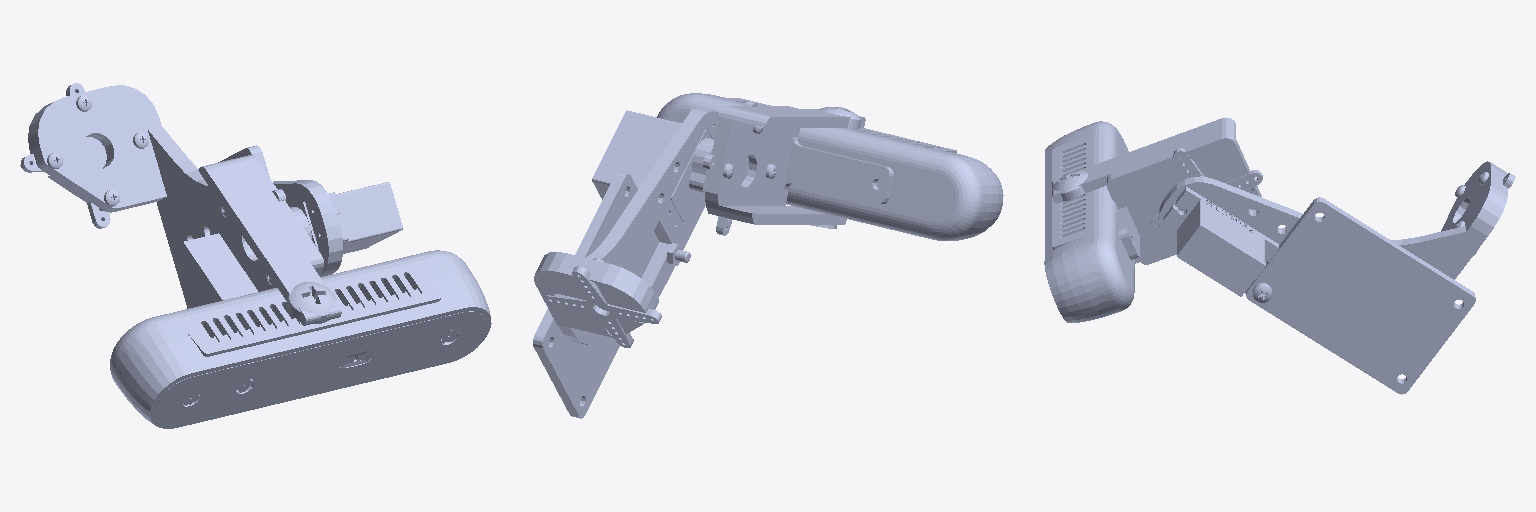
robot.urdf — Active Vision Platform:
<?xml version="1.0" encoding="utf-8"?>
<!-- This URDF was automatically created by SolidWorks to URDF Exporter! Originally created by Stephen Brawner (brawner@gmail.com) 
     Commit Version: 1.6.0-4-g7f85cfe  Build Version: 1.6.7995.38578
     For more information, please see http://wiki.ros.org/sw_urdf_exporter -->
<robot
  name="Active Vision Platform">
  <link
    name="base_link">
    <inertial>
      <origin
        xyz="0.317477964520347 -0.330969894003123 0.175977174132142"
        rpy="0 0 0" />
      <mass
        value="0.175" />
      <inertia
        ixx="0.000583456354562162"
        ixy="-7.14891953851568E-06"
        ixz="4.53483359986207E-05"
        iyy="0.000640864540576776"
        iyz="6.40389410938351E-05"
        izz="0.000161784736864578" />
    </inertial>
    <visual>
      <origin
        xyz="0 0 0"
        rpy="0 0 0" />
      <geometry>
        <mesh
          filename="package://Active Vision Platform/meshes/base_link.STL" />
      </geometry>
      <material
        name="">
        <color
          rgba="0.792156862745098 0.819607843137255 0.933333333333333 1" />
      </material>
    </visual>
    <collision>
      <origin
        xyz="0 0 0"
        rpy="0 0 0" />
      <geometry>
        <mesh
          filename="package://Active Vision Platform/meshes/base_link.STL" />
      </geometry>
    </collision>
  </link>
  <link
    name="Empty_Link1">
    <inertial>
      <origin
        xyz="0.317477964520347 -0.330969894003123 0.175977174132142"
        rpy="0 0 0" />
      <mass
        value="0.175" />
      <inertia
        ixx="0.000583456354562162"
        ixy="-7.14891953851568E-06"
        ixz="4.53483359986207E-05"
        iyy="0.000640864540576776"
        iyz="6.40389410938351E-05"
        izz="0.000161784736864578" />
    </inertial>
    <visual>
      <origin
        xyz="0 0 0"
        rpy="0 0 0" />
      <geometry>
        <mesh
          filename="package://Active Vision Platform/meshes/Empty_Link1.STL" />
      </geometry>
      <material
        name="">
        <color
          rgba="0.792156862745098 0.819607843137255 0.933333333333333 1" />
      </material>
    </visual>
    <collision>
      <origin
        xyz="0 0 0"
        rpy="0 0 0" />
      <geometry>
        <mesh
          filename="package://Active Vision Platform/meshes/Empty_Link1.STL" />
      </geometry>
    </collision>
  </link>
  <joint
    name="joint1"
    type="continuous">
    <origin
      xyz="0.31194 -0.10063 -0.3345"
      rpy="3.1351 0.967 -1.5786" />
    <parent
      link="base_link" />
    <child
      link="Empty_Link1" />
    <axis
      xyz="0 0 -1" />
  </joint>
  <link
    name="Empty_Link2">
    <inertial>
      <origin
        xyz="0.317477964520347 -0.330969894003123 0.175977174132142"
        rpy="0 0 0" />
      <mass
        value="0.175" />
      <inertia
        ixx="0.000583456354562162"
        ixy="-7.14891953851568E-06"
        ixz="4.53483359986207E-05"
        iyy="0.000640864540576776"
        iyz="6.40389410938351E-05"
        izz="0.000161784736864578" />
    </inertial>
    <visual>
      <origin
        xyz="0 0 0"
        rpy="0 0 0" />
      <geometry>
        <mesh
          filename="package://Active Vision Platform/meshes/Empty_Link2.STL" />
      </geometry>
      <material
        name="">
        <color
          rgba="0.792156862745098 0.819607843137255 0.933333333333333 1" />
      </material>
    </visual>
    <collision>
      <origin
        xyz="0 0 0"
        rpy="0 0 0" />
      <geometry>
        <mesh
          filename="package://Active Vision Platform/meshes/Empty_Link2.STL" />
      </geometry>
    </collision>
  </link>
  <joint
    name="joint2"
    type="continuous">
    <origin
      xyz="0.030254 -0.0087565 -0.070686"
      rpy="-1.5747 -0.5805 -3.1416" />
    <parent
      link="Empty_Link1" />
    <child
      link="Empty_Link2" />
    <axis
      xyz="0 0 -1" />
  </joint>
</robot>

--- Render facts (derived) ---
Views: 3 orthographic renders of the robot side by side, from view 1: azimuth 30°, elevation 25°; view 2: azimuth 150°, elevation 25°; view 3: azimuth 270°, elevation 25°.
Robot: Active Vision Platform — 3 links, 2 joints (2 continuous); root link base_link; default pose: every joint at zero.
Links seen in each view (by area): view 1: Empty_Link2, Empty_Link1; view 2: Empty_Link2, Empty_Link1; view 3: Empty_Link1, Empty_Link2.
Boxes of the visible links, <box> form: Empty_Link2: <box>110,155,491,428</box>; Empty_Link1: <box>20,83,402,308</box>; Empty_Link2: <box>657,93,1003,240</box>; Empty_Link1: <box>533,108,718,418</box>; Empty_Link1: <box>1158,161,1515,394</box>; Empty_Link2: <box>1044,117,1262,322</box>.
Bounding box of the posed robot: 0.099 × 0.1349 × 0.0733 m (x, y, z).
Meshes: 3 distinct files referenced, 2 mesh visuals loaded (2 binary STL); not drawn: 1 (reference not matched to a file when rendering).
